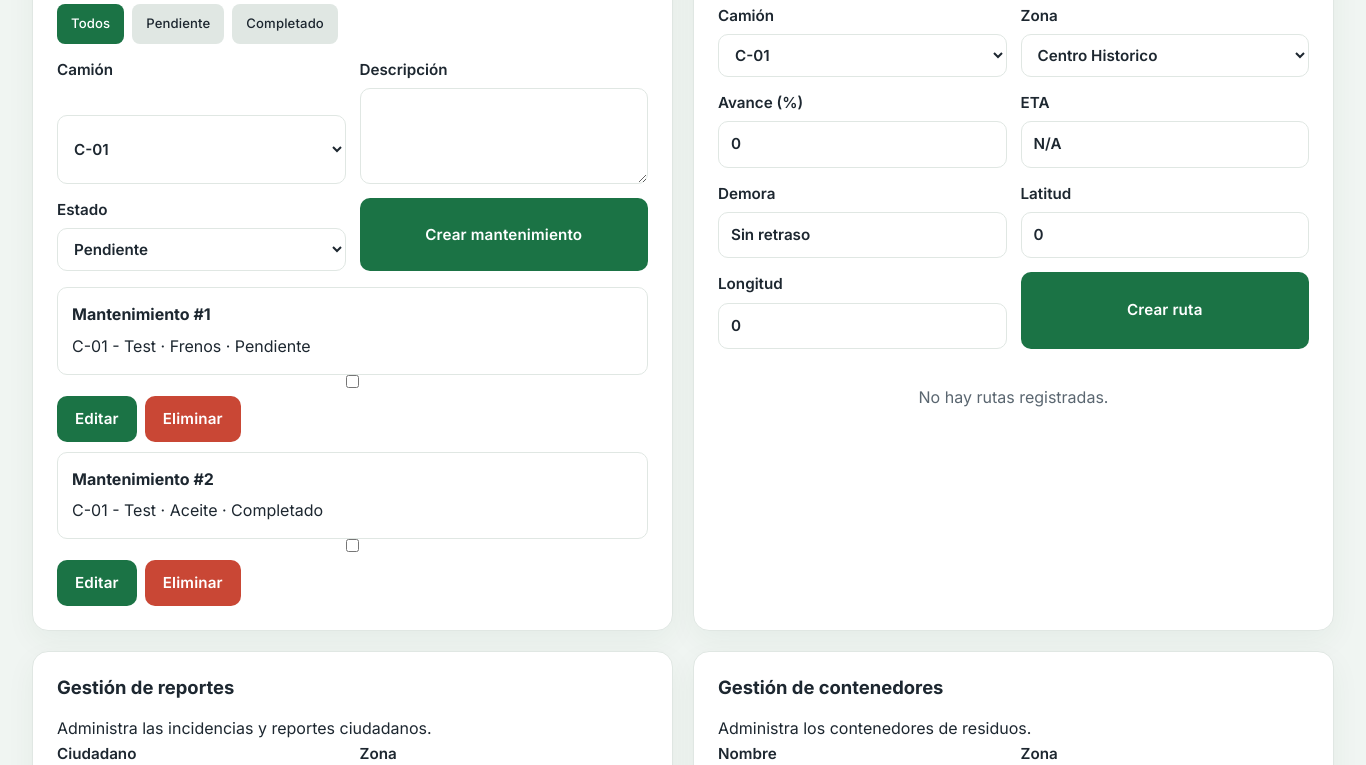
Test: Admin dashboard › muestra la barra de acción masiva al seleccionar elementos de mantenimiento
(page scrolled)
Expected: the text "seleccionado" is not shown
Click the checkbox named "Seleccionar mantenimiento #1": click(352, 381) [57,374,648,388]
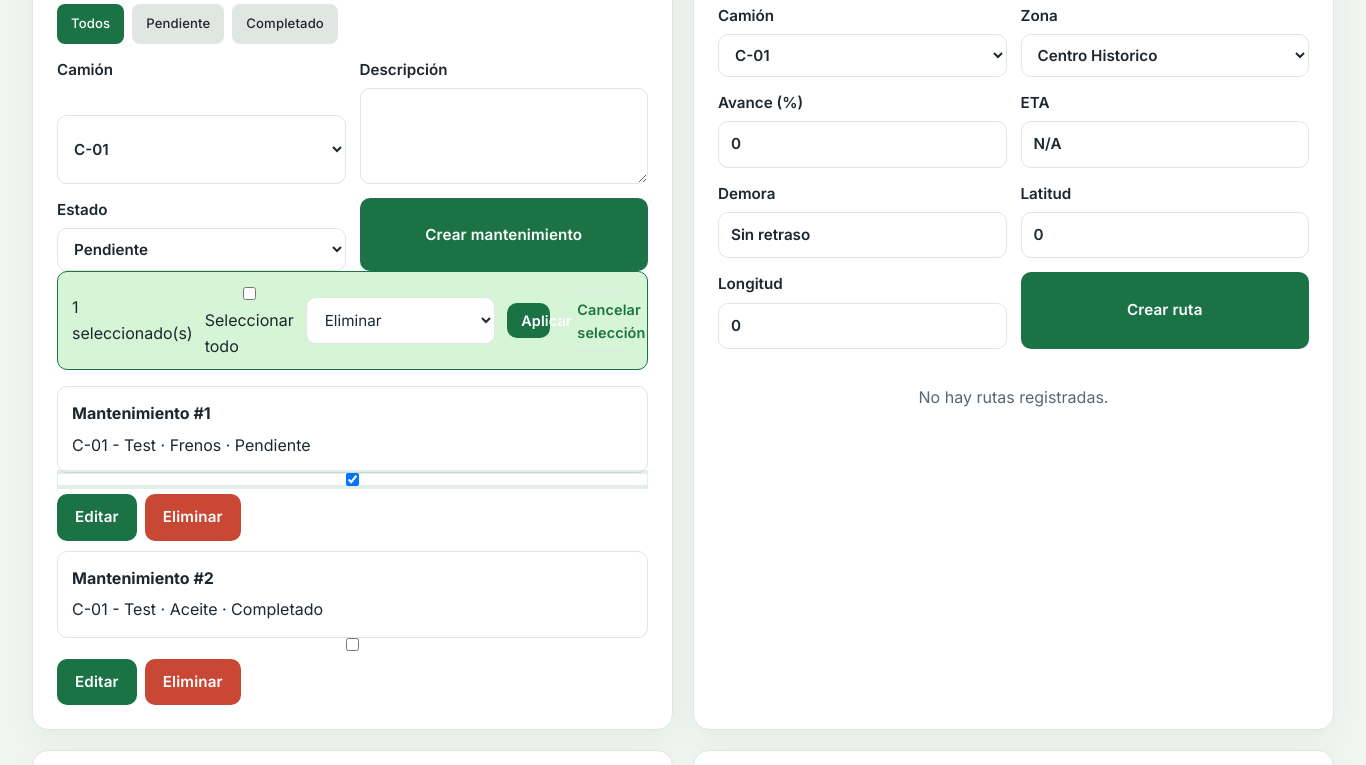
Now the text "1 seleccionado(s)" is shown, box [72,295,193,346]
Now the button "Aplicar" is shown, box [507,303,550,338]
